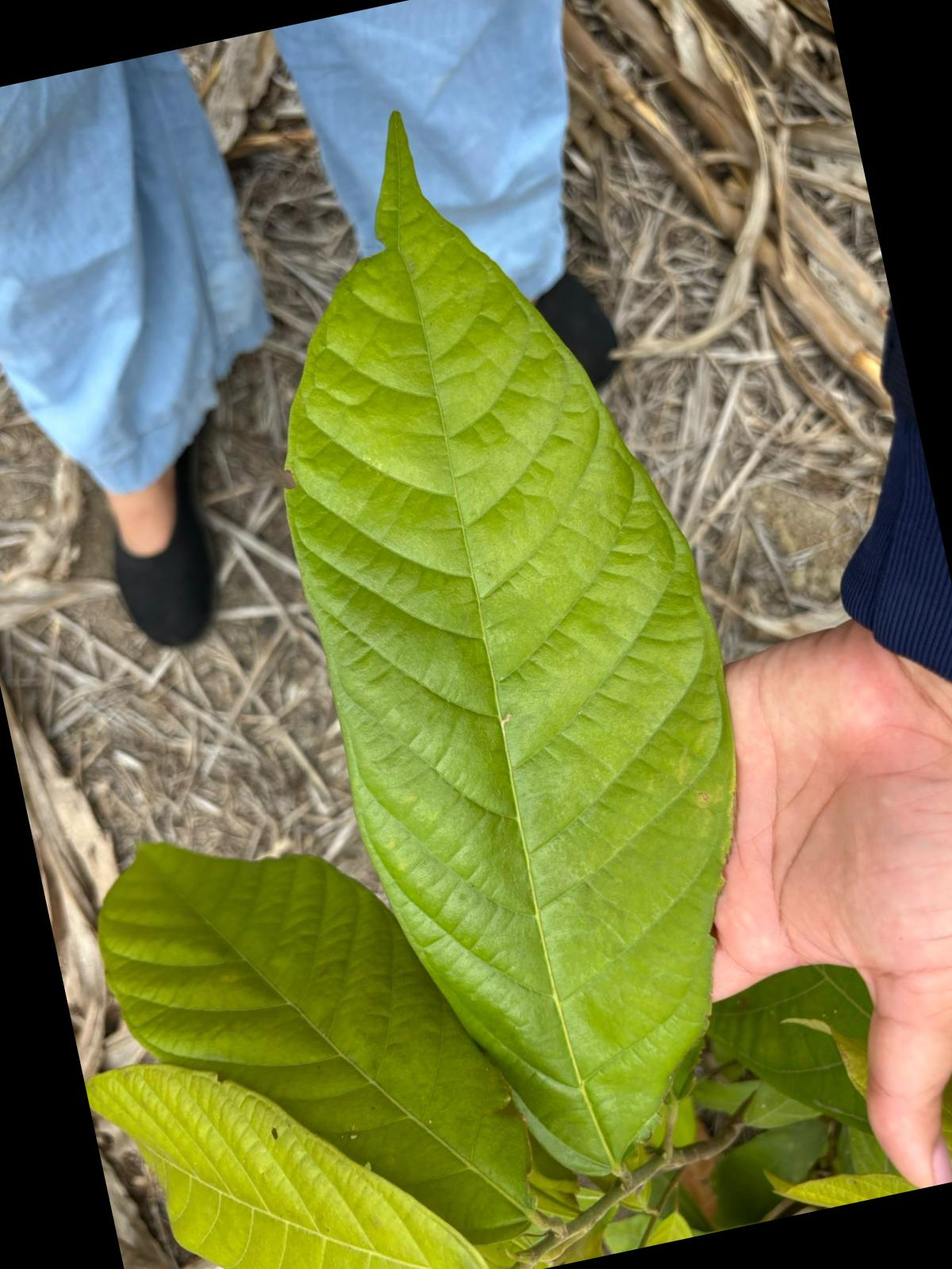Nitrogeno: (288, 115, 735, 1173)
